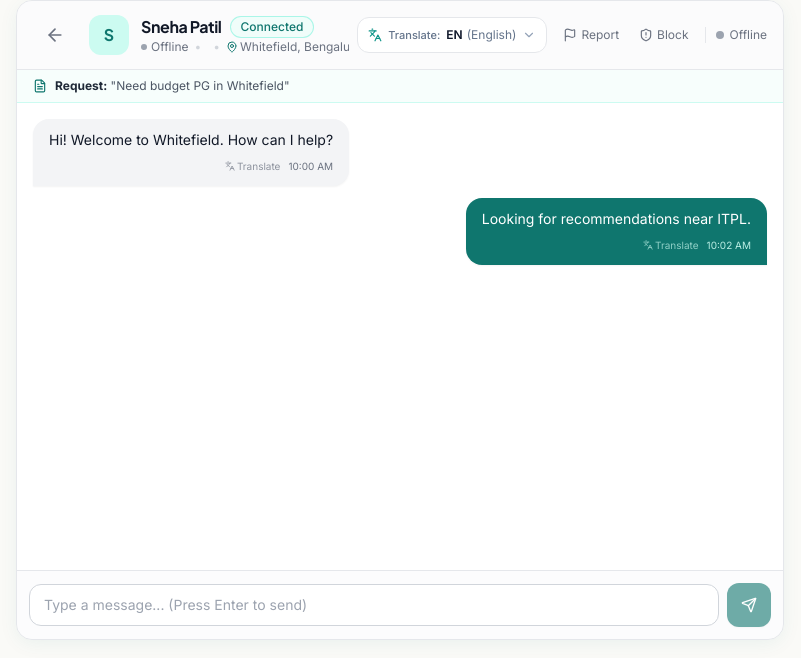
Test: Phase 8 Chat & Messaging Frontend › ChatPage Component › translates message into selected language and toggles original/translated
Check: the heading "Sneha Patil" is shown, box [141,15,222,39]
Step 1. Click the button "Translate" next to "10:00 AM" → [253, 166], box [225,156,280,176]
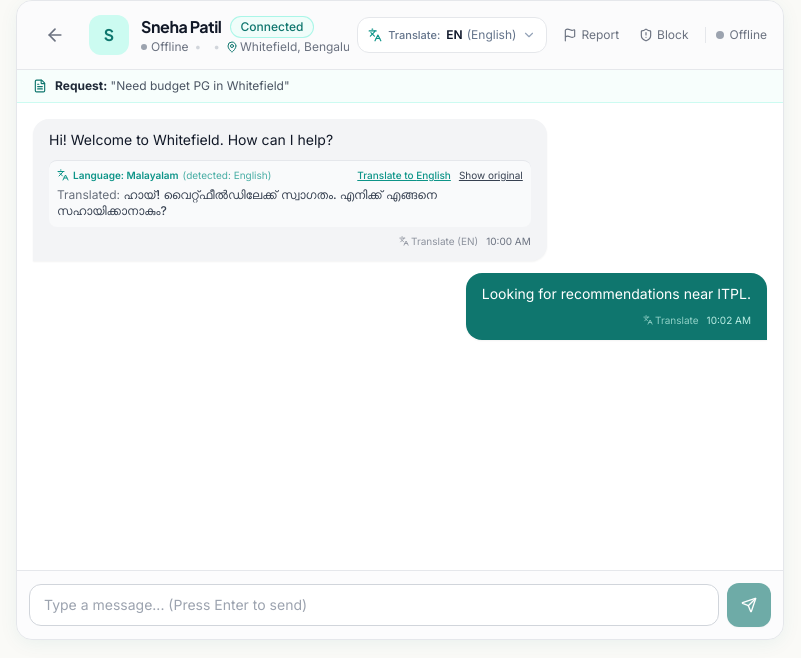
Check: the text "വൈറ്റ്ഫീൽഡിലേക്ക് സ്വാഗതം" is shown, box [57,187,437,218]
Toggle show original
Step 2. Click the button "Show original" → [491, 175], box [459,167,523,183]
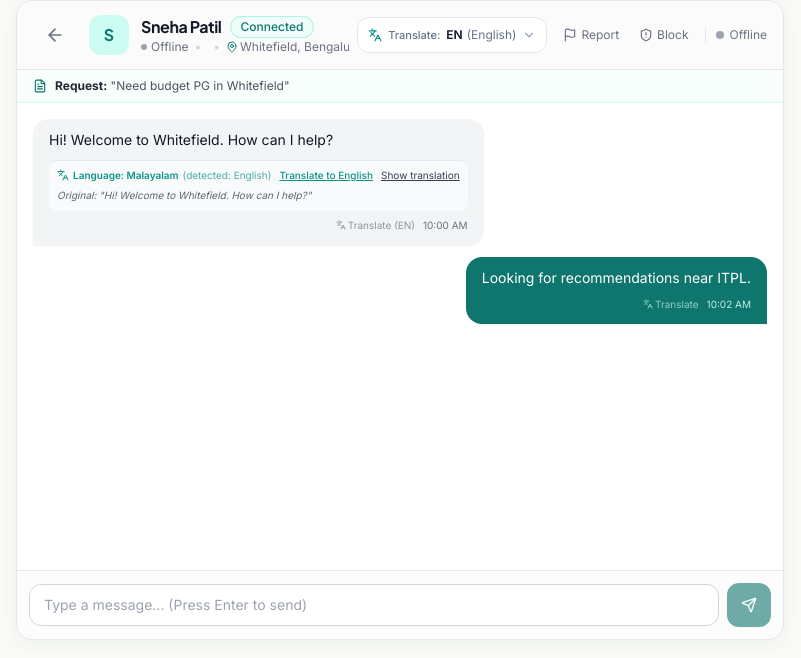
Check: the button "Show translation" is shown, box [381,167,460,183]
